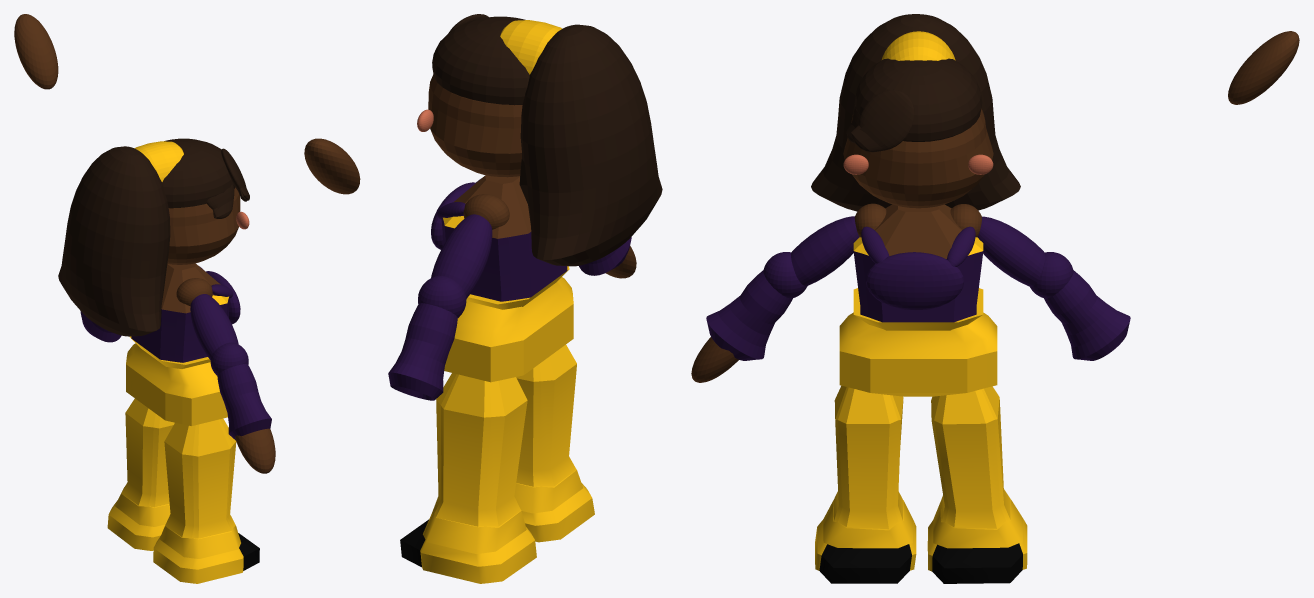
File: Clara Novav2.fbx
3 views of the same model, side by side, from view 1: azimuth 30°, elevation 25°; view 2: azimuth 150°, elevation 25°; view 3: azimuth 270°, elevation 25° (orthographic). The views are drawn at different scales.
Visible parts, largest first — view 1: Sphere.016, Cube.003, Cube.009, trousers, Sphere.001, Sphere.010, Sphere, Sphere.003, Cube.001, Sphere.013, Cube.006, Torus.005 (+7 smaller); view 2: Sphere.016, Cube.009, Cube.003, trousers, Sphere, Sphere.010, Sphere.003, Cube.001, Sphere.013, Sphere.001, Cube.006, Torus.005 (+5 smaller); view 3: Cube.009, Cube.003, trousers, Sphere.016, Sphere.003, Sphere, Sphere.010, Sphere.013, Sphere.009, Sphere.001, Cube.001, Cube.006 (+9 smaller).
Part boxes in pixels (x1,y1,x2,y2): Sphere.016: [58, 146, 170, 336]; Cube.003: [153, 418, 243, 583]; Cube.009: [107, 398, 174, 550]; trousers: [126, 343, 227, 425]; Sphere.001: [14, 14, 275, 473]; Sphere.010: [162, 138, 235, 208]; Sphere: [167, 187, 240, 264]; Sphere.003: [80, 311, 271, 440]; Cube.001: [131, 297, 229, 362]; Sphere.013: [190, 294, 238, 359]; Cube.006: [161, 263, 225, 313]; Torus.005: [134, 141, 183, 181]; Sphere.016: [519, 24, 662, 266]; Cube.009: [420, 373, 536, 583]; Cube.003: [514, 344, 594, 542]; trousers: [444, 277, 573, 382]; Sphere: [428, 74, 522, 177]; Sphere.010: [432, 16, 529, 105]; Sphere.003: [388, 237, 631, 400]; Cube.001: [441, 218, 567, 301]; Sphere.013: [431, 214, 492, 298]; Sphere.001: [304, 138, 636, 278]; Cube.006: [454, 175, 531, 238]; Torus.005: [500, 20, 562, 74]; Cube.009: [927, 386, 1027, 571]; Cube.003: [815, 385, 916, 570]; trousers: [839, 312, 997, 396]; Sphere.016: [811, 14, 1020, 211]; Sphere.003: [706, 270, 1130, 360]; Sphere: [843, 108, 993, 208]; Sphere.010: [854, 58, 982, 141]; Sphere.013: [791, 216, 1045, 286]; Sphere.009: [866, 252, 963, 310]; Sphere.001: [691, 31, 1299, 382]; Cube.001: [853, 247, 983, 322]; Cube.006: [864, 204, 961, 258].
Size of the model in its own units: 295 by 753 by 794.
